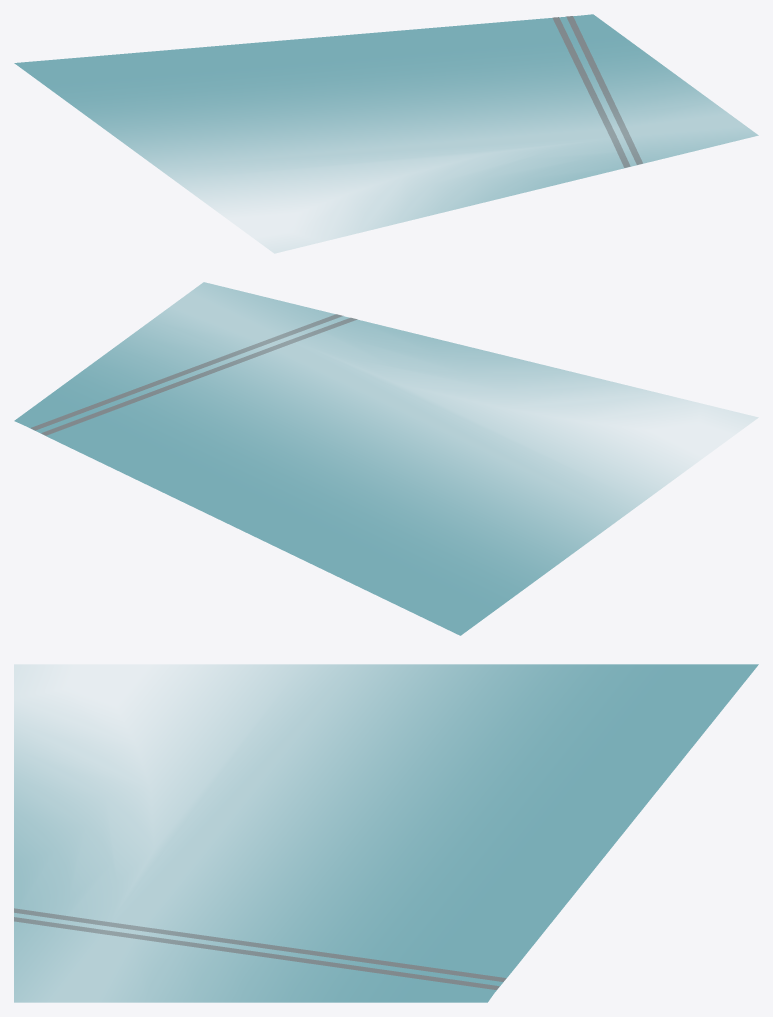
3 renders of one model, top to bottom at view 1: azimuth 30°, elevation 25°; view 2: azimuth 150°, elevation 25°; view 3: azimuth 270°, elevation 25°, orthographic. The views are drawn at different scales.
Visible parts, largest first — view 1: city; view 2: city; view 3: city.
Part boxes in pixels (x1=…): city: x1=14, y1=14, x2=758, y2=253; city: x1=14, y1=282, x2=757, y2=635; city: x1=14, y1=664, x2=758, y2=1002.
Size of the model in its own units: 500 by 0.24 by 466.
